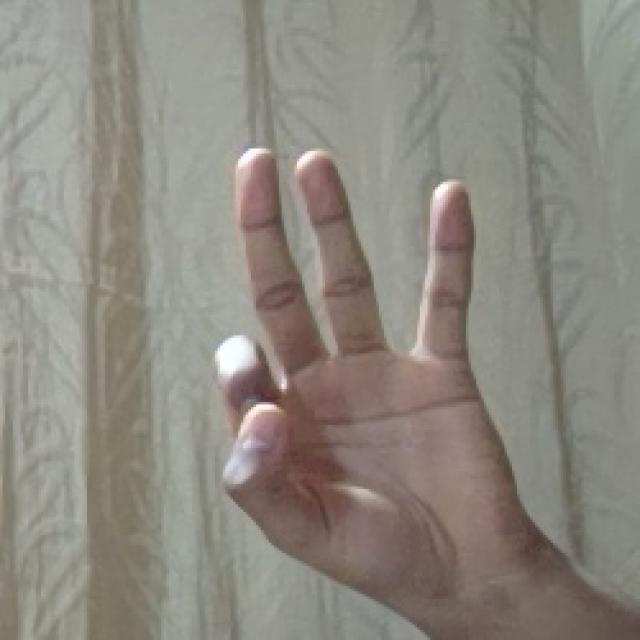Numeric-9: (213, 128, 517, 603)
